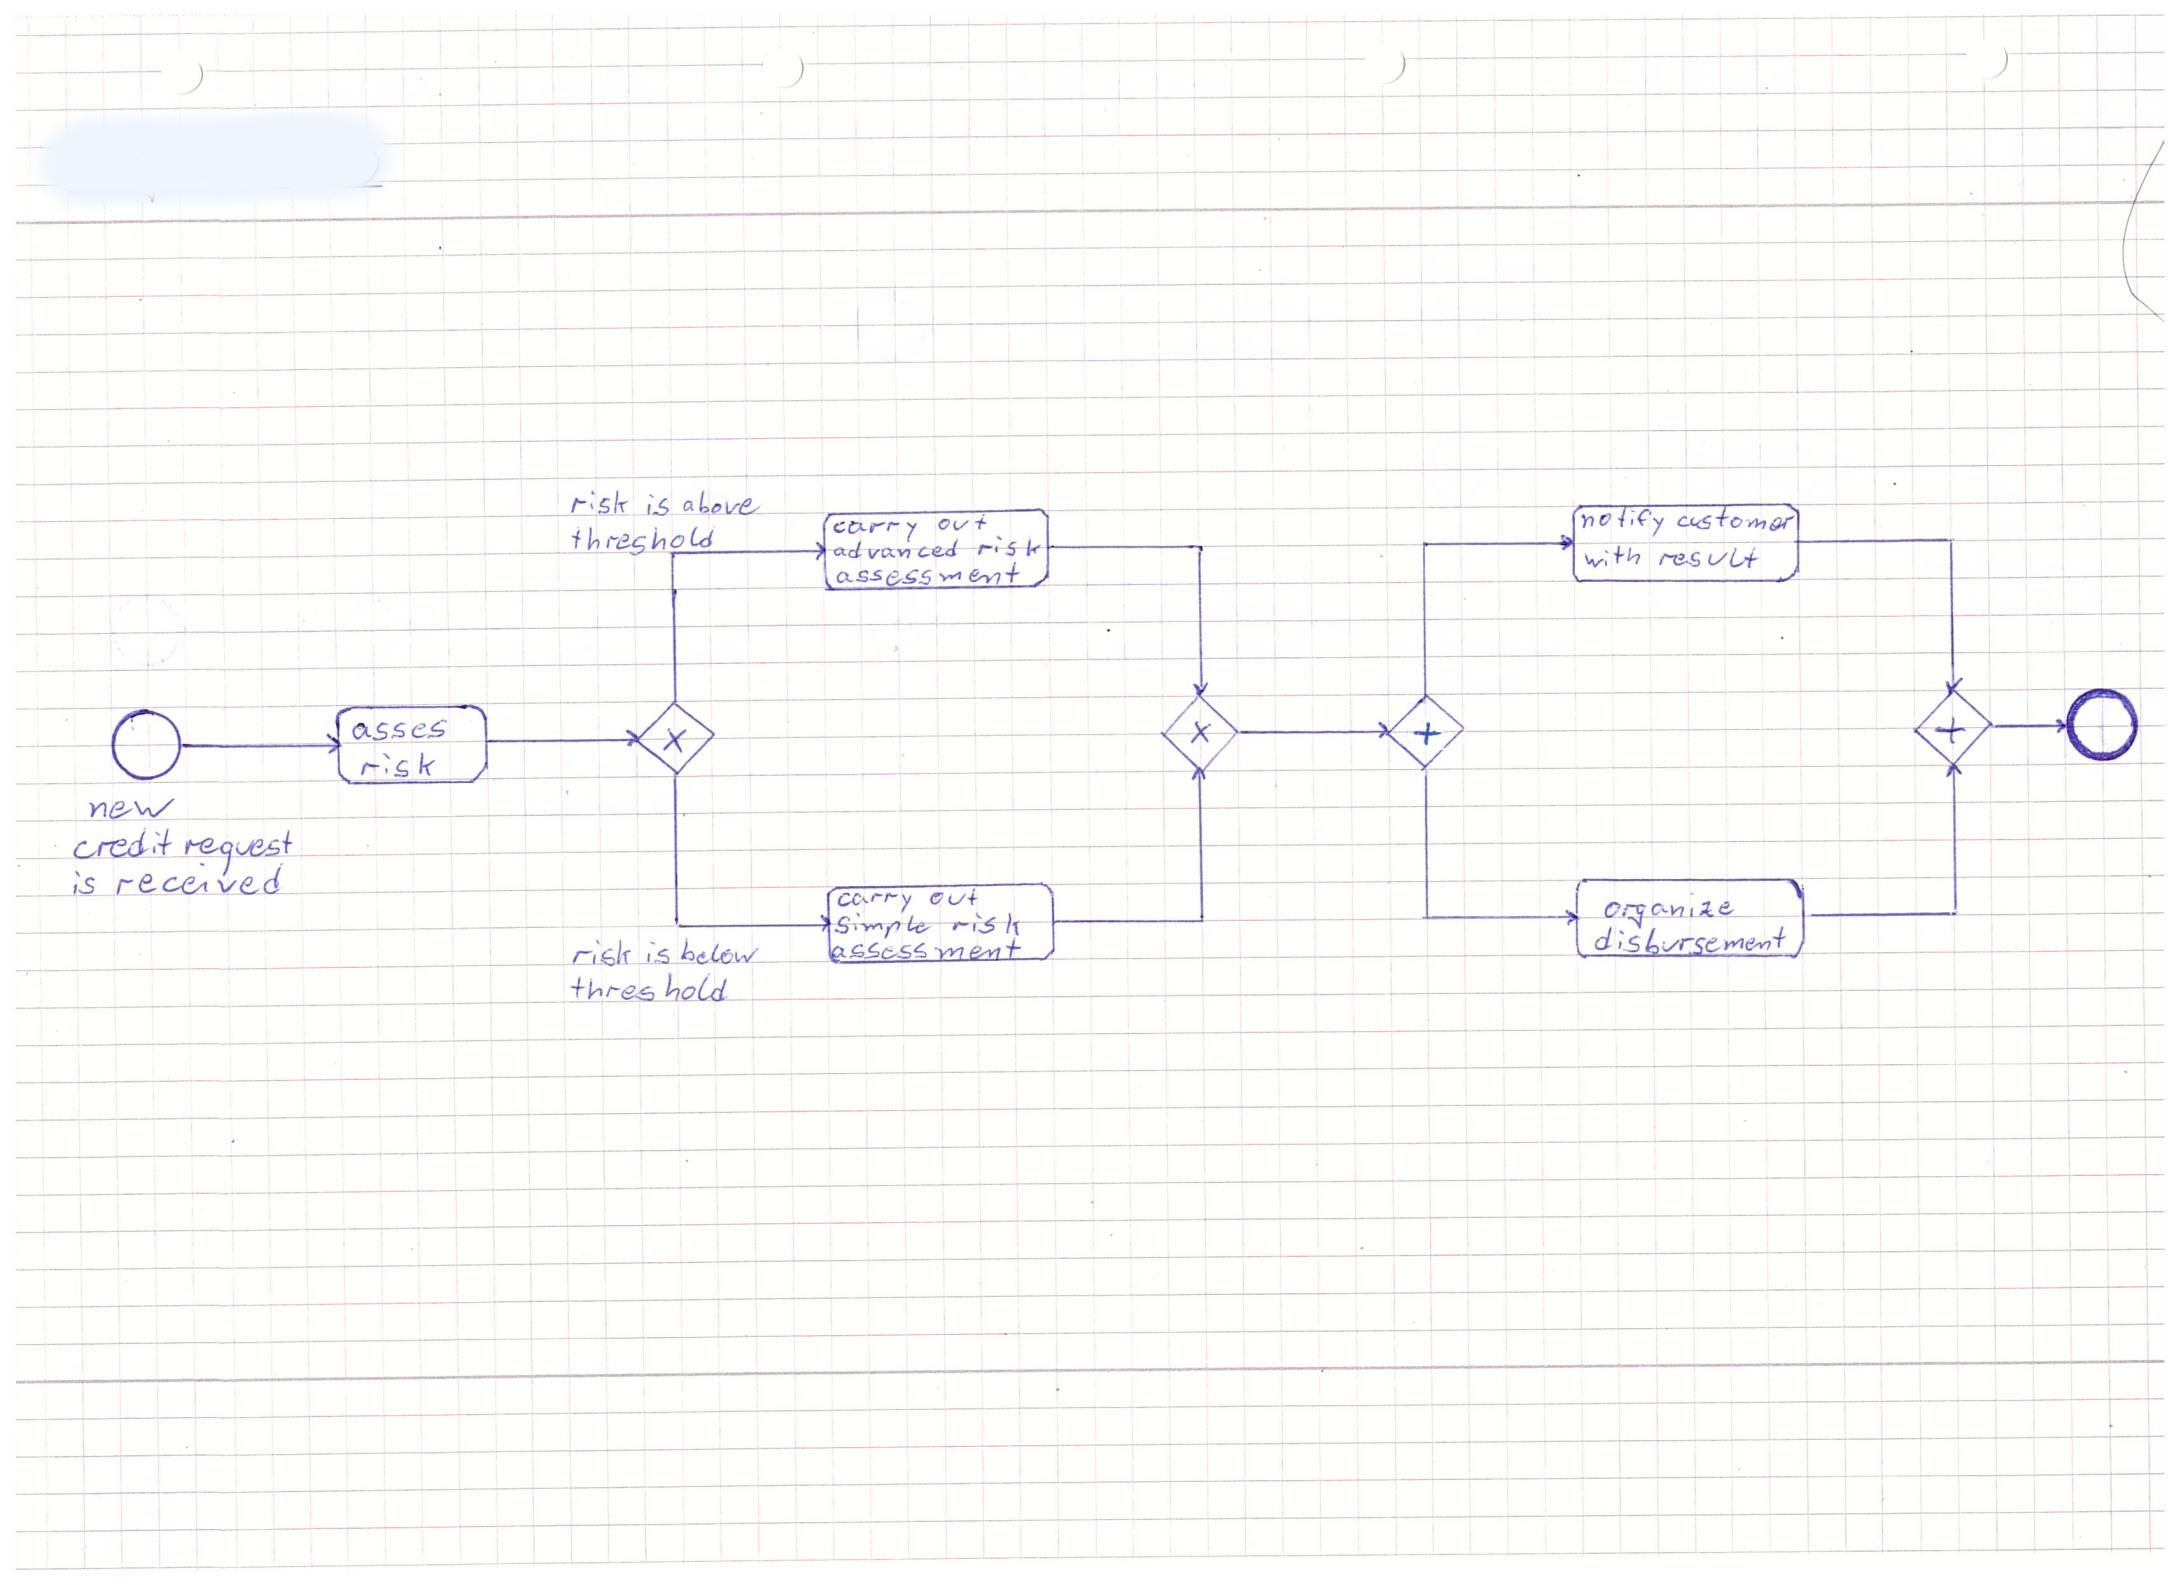above: (677, 485, 766, 521)
advanced: (829, 535, 963, 563)
asses: (345, 712, 453, 746)
assessment: (826, 930, 1025, 966), (831, 557, 1025, 590)
below: (673, 932, 765, 969)
carry: (827, 518, 922, 546), (832, 886, 915, 919)
credit: (64, 820, 178, 866)
customer: (1671, 501, 1800, 536)
disbursement: (1589, 920, 1792, 959)
is: (64, 864, 102, 902), (639, 935, 677, 969), (639, 487, 675, 521)
new: (85, 792, 183, 825)
notify: (1577, 502, 1670, 540)
organize: (1597, 888, 1739, 934)
out: (924, 883, 981, 912), (932, 509, 990, 535)
received: (107, 856, 291, 907)
request: (178, 824, 298, 881)
result: (1655, 540, 1765, 573)
risk: (355, 748, 438, 783), (946, 907, 1025, 942), (567, 934, 638, 971), (973, 529, 1046, 562), (565, 485, 633, 519)
simple: (831, 908, 936, 944)
threshold: (565, 968, 734, 1008), (565, 519, 721, 562)
with: (1578, 541, 1644, 572)
